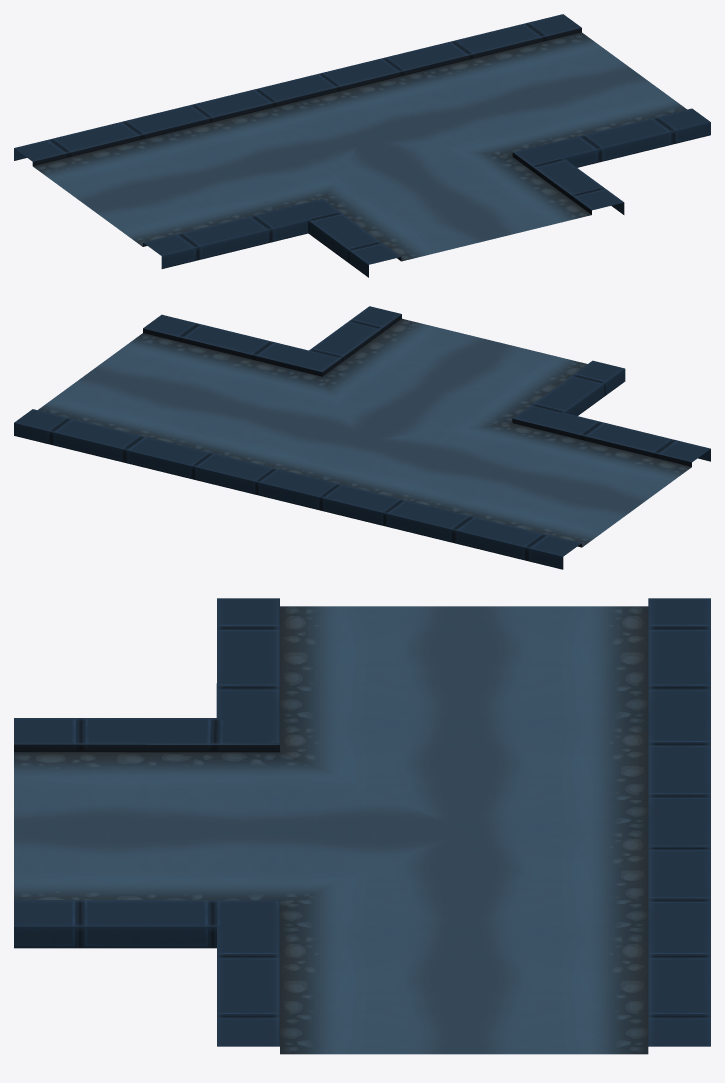
The model's file is RoadPiece_06.FBX.
The picture shows the model from 3 angles, top to bottom: view 1: azimuth 30°, elevation 25°; view 2: azimuth 150°, elevation 25°; view 3: azimuth 270°, elevation 25°; orthographic projection. The views are drawn at different scales.
Parts seen in each view (by area): view 1: RoadPiece_06; view 2: RoadPiece_06; view 3: RoadPiece_06.
Boxes of the visible parts, x1,y1,x2,y2 form: RoadPiece_06: (14, 14, 710, 277); RoadPiece_06: (14, 306, 710, 569); RoadPiece_06: (14, 598, 710, 1054).
Size of the model in its own units: 351 by 7.95 by 230.
